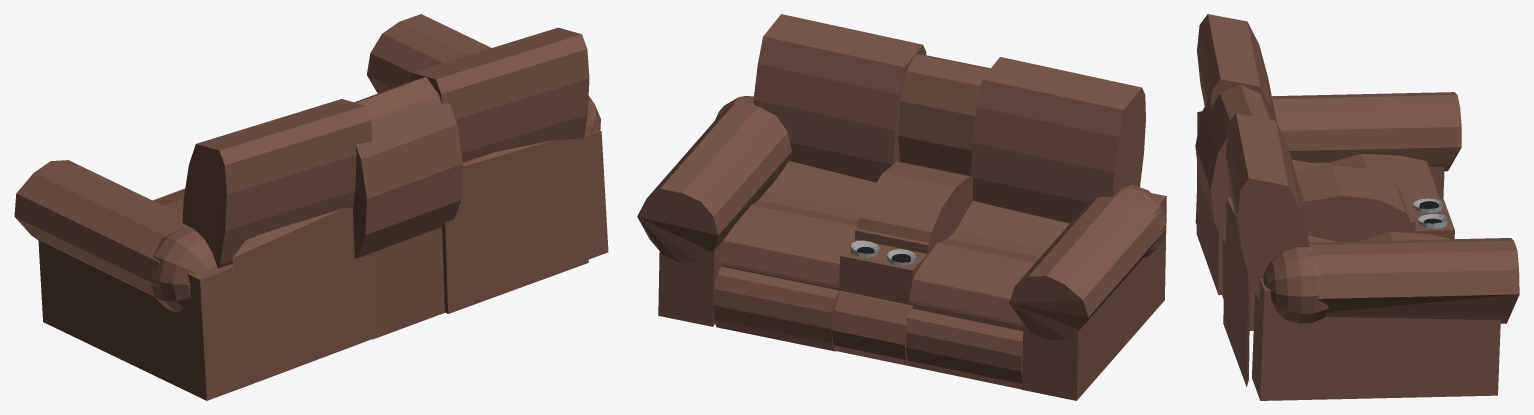
File: sofa.obj
3 views of the same model, side by side, from view 1: azimuth 30°, elevation 25°; view 2: azimuth 150°, elevation 25°; view 3: azimuth 270°, elevation 25° (orthographic). The views are drawn at different scales.
Parts seen in each view (by area): view 1: group2081183087; view 2: group2081183087; view 3: group2081183087.
Part boxes in pixels (x1,y1,x2,y2): group2081183087: (14,14,608,400); group2081183087: (637,14,1166,400); group2081183087: (1195,14,1519,400).
Bounding box in the file's own units: 0.5211 × 0.2633 × 0.3241.
